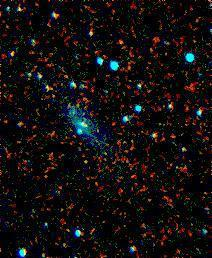star: (103, 27, 133, 57)
